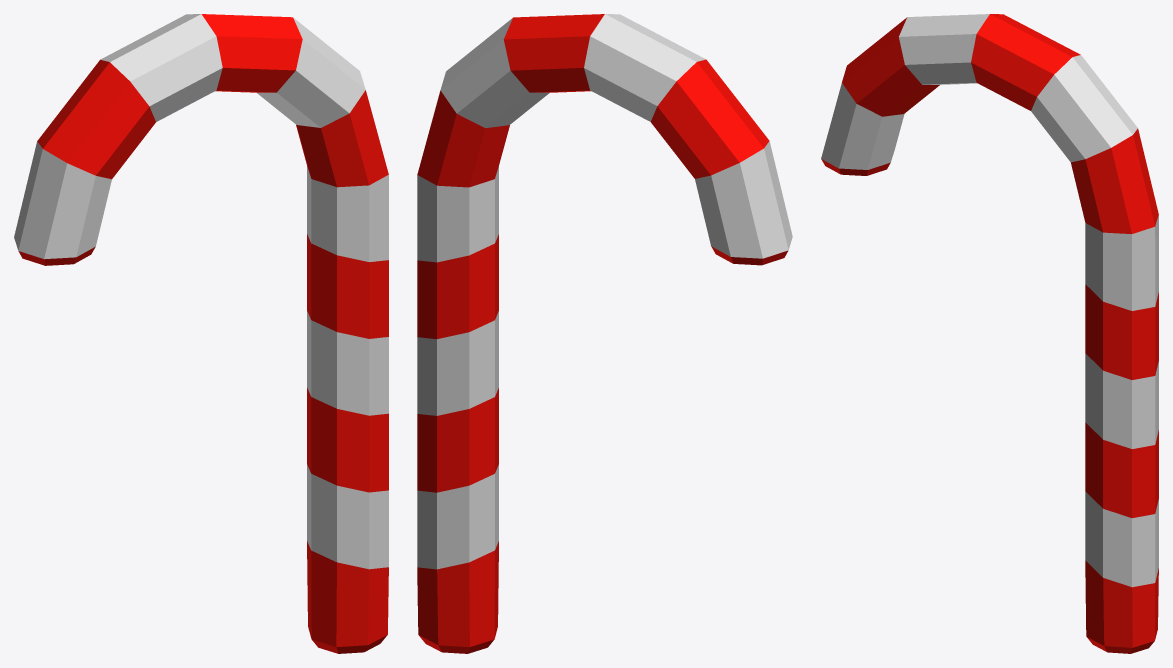
Rendered from CandyCane.fbx.
The picture shows the model from 3 angles, left to right: view 1: azimuth 30°, elevation 25°; view 2: azimuth 150°, elevation 25°; view 3: azimuth 330°, elevation 25°; orthographic projection. The views are drawn at different scales.
Parts seen in each view (by area): view 1: Candy Cane; view 2: Candy Cane; view 3: Candy Cane.
Boxes of the visible parts, left/top/right/bottom form: Candy Cane: left=14, top=14, right=388, bottom=653; Candy Cane: left=417, top=14, right=792, bottom=653; Candy Cane: left=821, top=14, right=1158, bottom=653.
Size of the model in its own units: 33.18 by 57.25 by 6.71.
